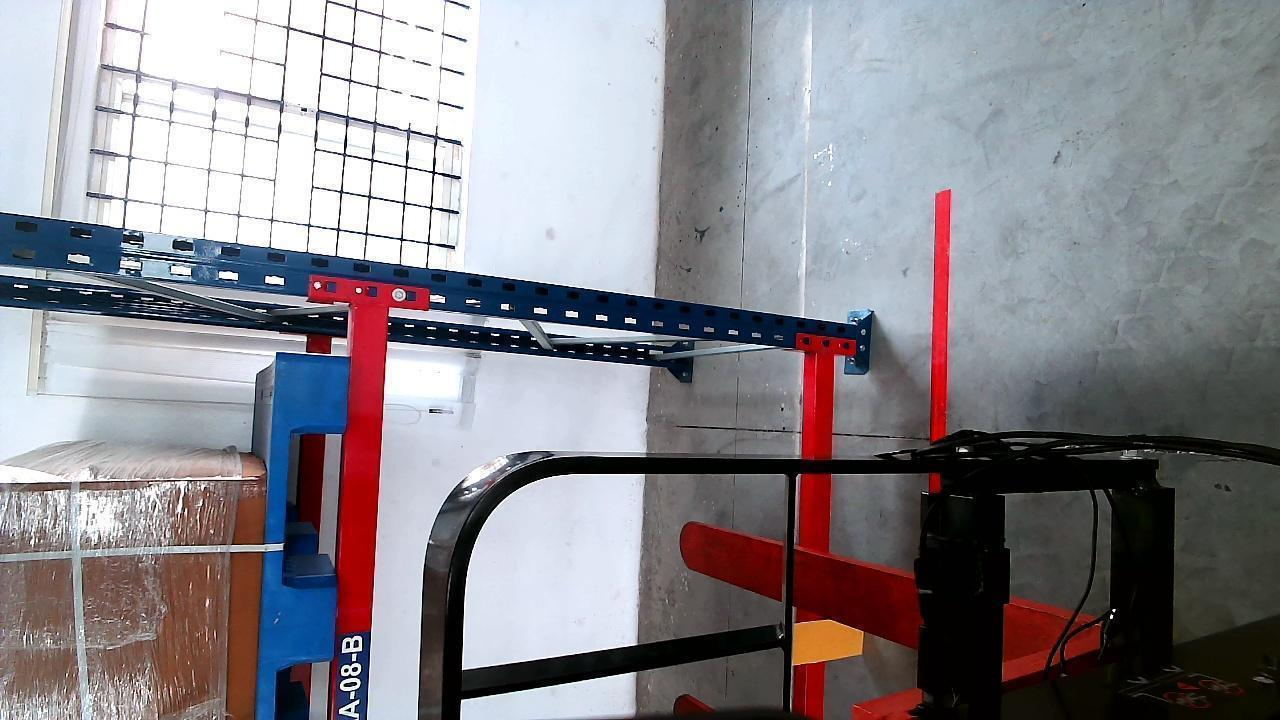red_line: (930, 181, 952, 440)
